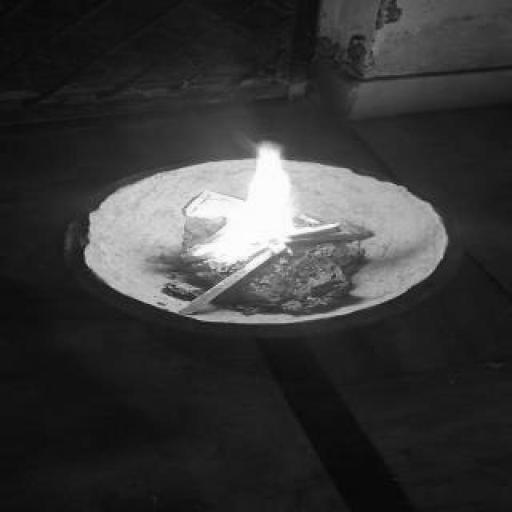smoke: (160, 141, 304, 256)
